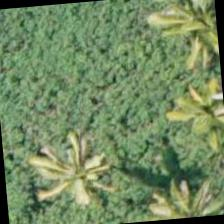Kelapa_Sawit: (30, 131, 129, 223), (154, 0, 221, 64)
